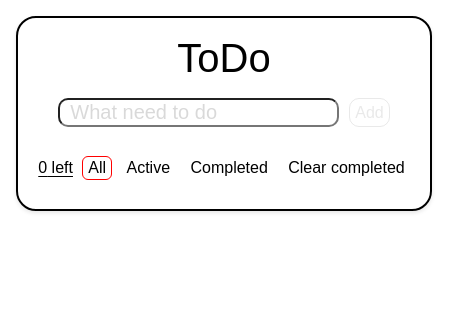
Test: App Component › should clear completed tasks
In the field with placeholder "What need to do": (199, 112) x1=58 y1=98 x2=339 y2=127, type "Task 1"
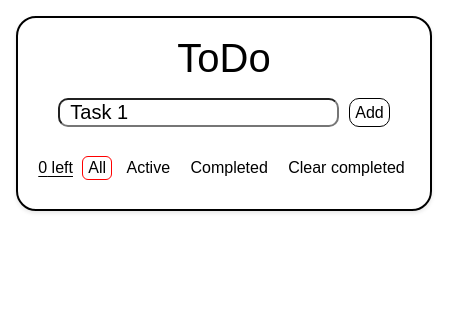
Click the button "Add": (370, 112) x1=349 y1=98 x2=390 y2=127
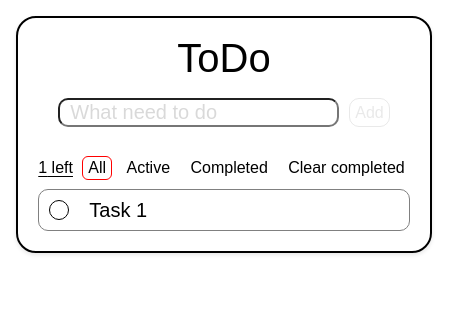
In the field with placeholder "What need to do": (199, 112) x1=58 y1=98 x2=339 y2=127, type "Task 2"
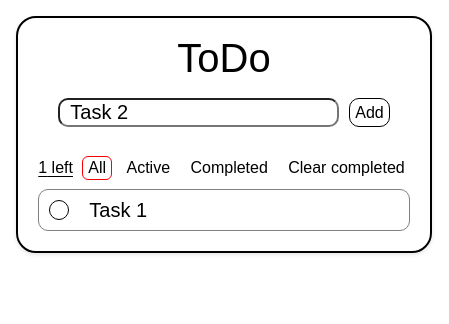
Click the button "Add": (370, 112) x1=349 y1=98 x2=390 y2=127
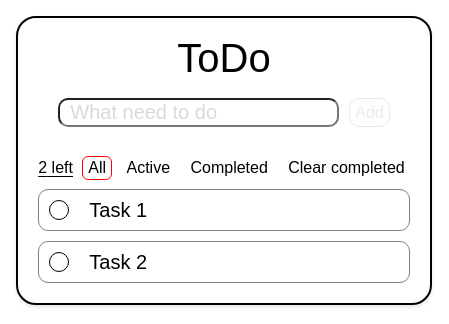
Click the checkbox next to "Task 1": (59, 210) x1=49 y1=200 x2=69 y2=220
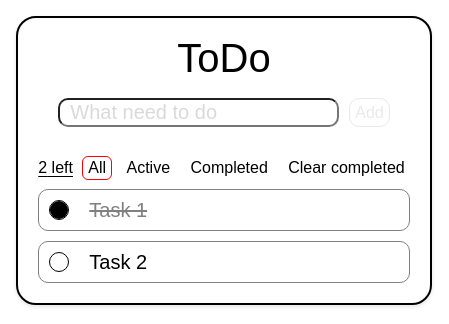
Now the heading "Task 1" is shown, box x1=89 y1=200 x2=147 y2=220
Now the heading "Task 2" is shown, box x1=89 y1=252 x2=147 y2=272
Click the button with test id "clear": (346, 168) x1=283 y1=157 x2=410 y2=179
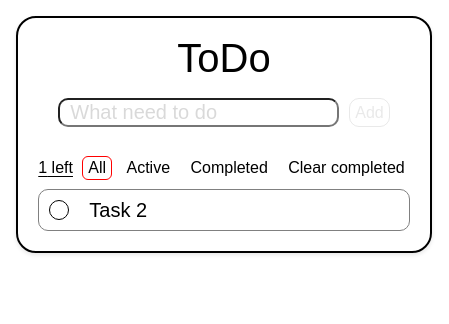
Now the heading "Task 2" is shown, box x1=89 y1=200 x2=147 y2=220
Now the heading "Task 1" is gone
